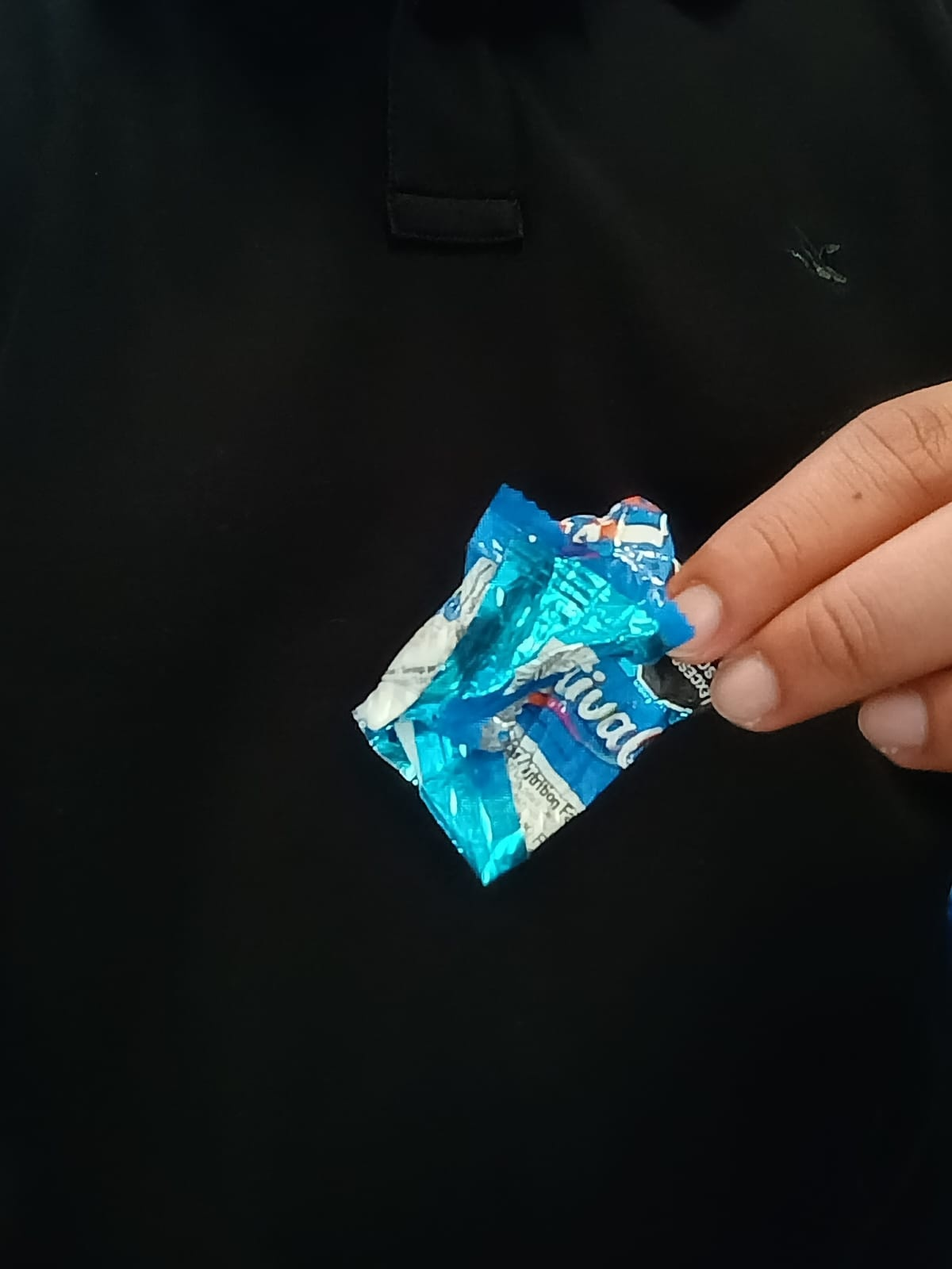Ordinario: (351, 478, 717, 892)
